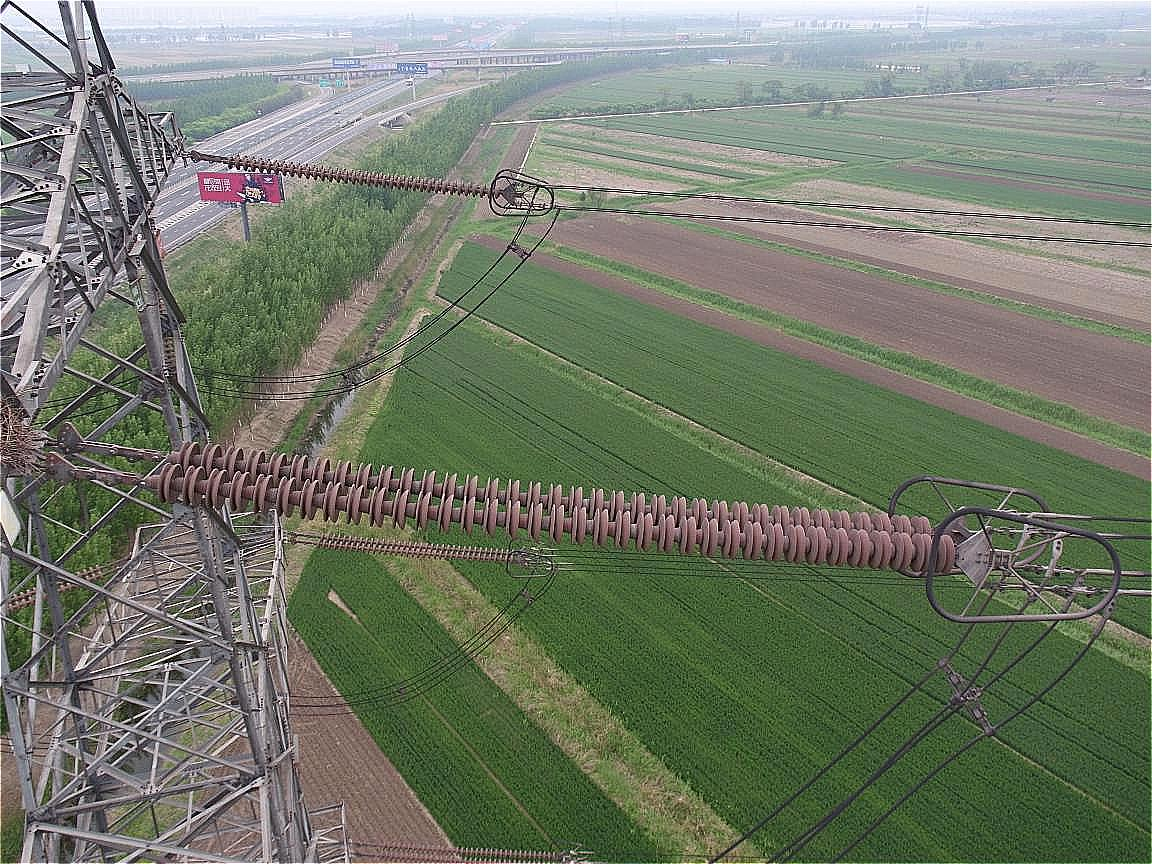insultor1: (210, 143, 498, 203)
insultor2: (123, 428, 987, 598)
